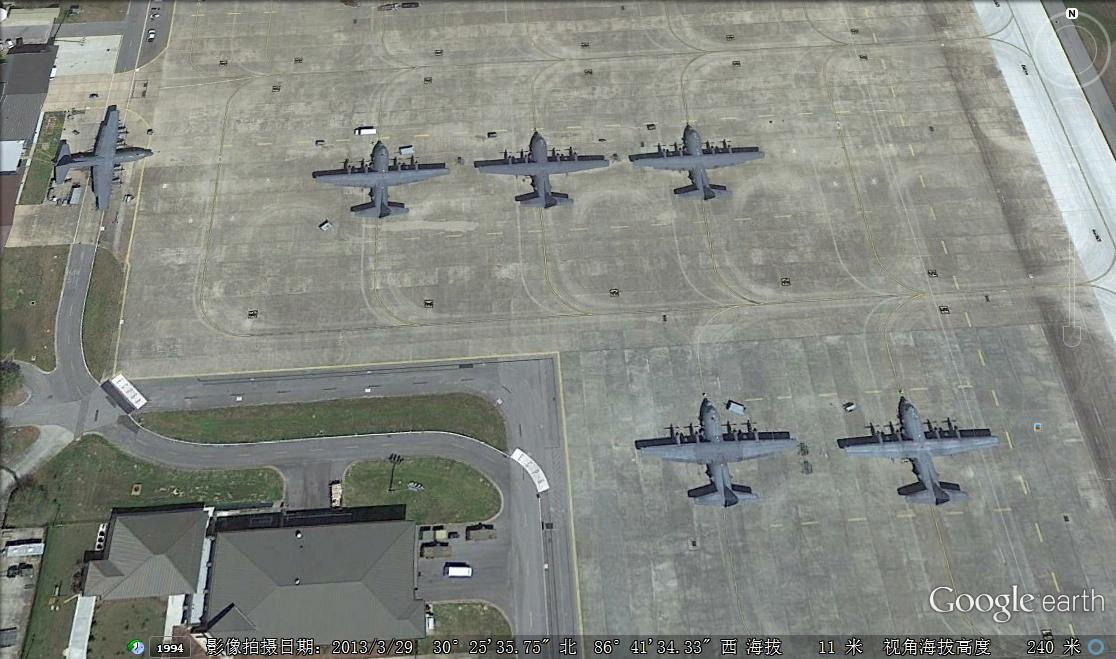C-130: (835, 394, 1003, 511), (635, 393, 794, 511), (48, 100, 151, 220), (473, 131, 614, 213), (314, 139, 448, 223), (632, 127, 767, 201)
